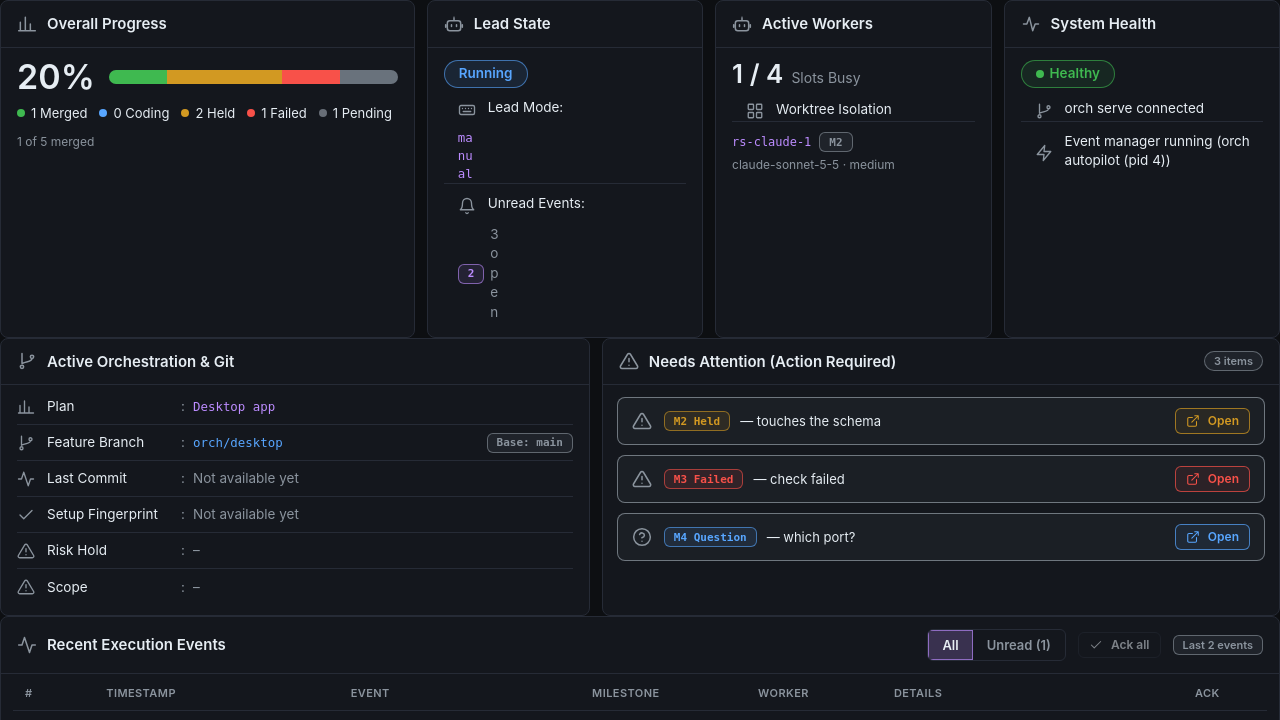
Test: RunOverview: content › filters the events to the unread ones
The image size is (1280, 720).
Click the button "Unread (1)": (1019, 645) [973, 630, 1065, 660]
(page scrolled)
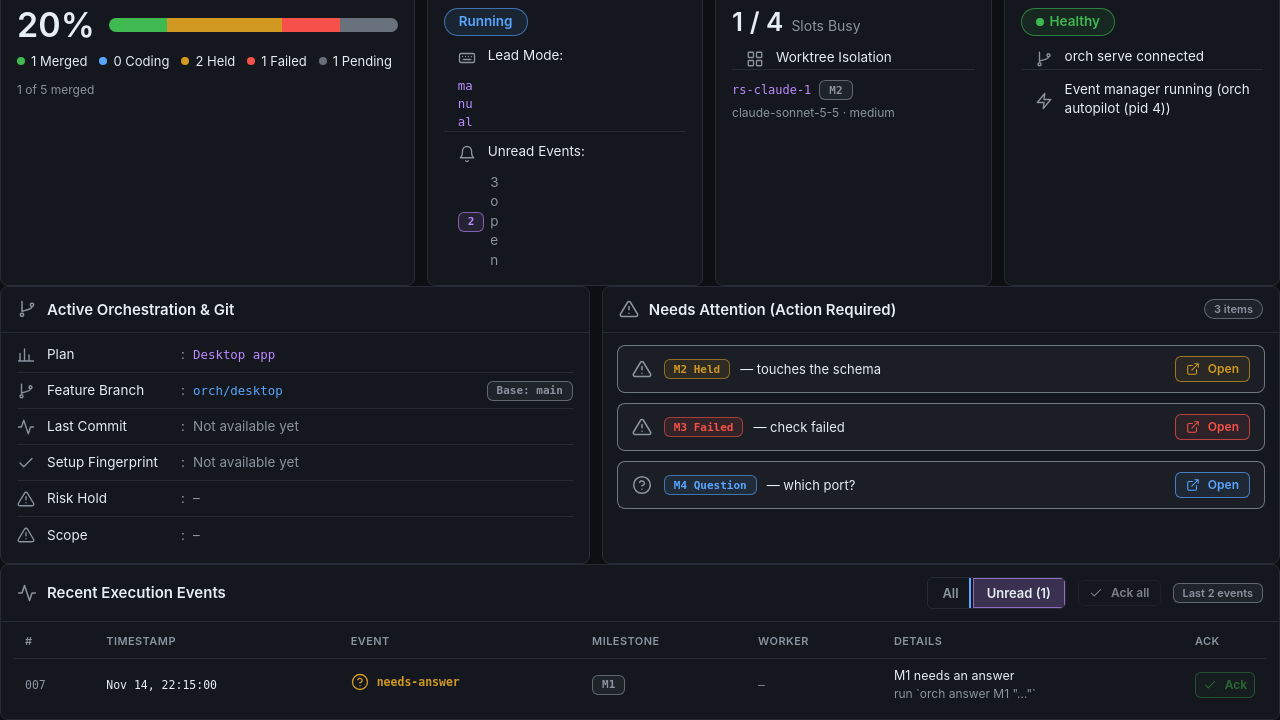
Check: the element "Recent Execution Events" shows "M1 needs an answer", box [894, 668, 1014, 683]
Check: the element "Recent Execution Events" no longer shows "M0 merged", box [0, 564, 1279, 719]
